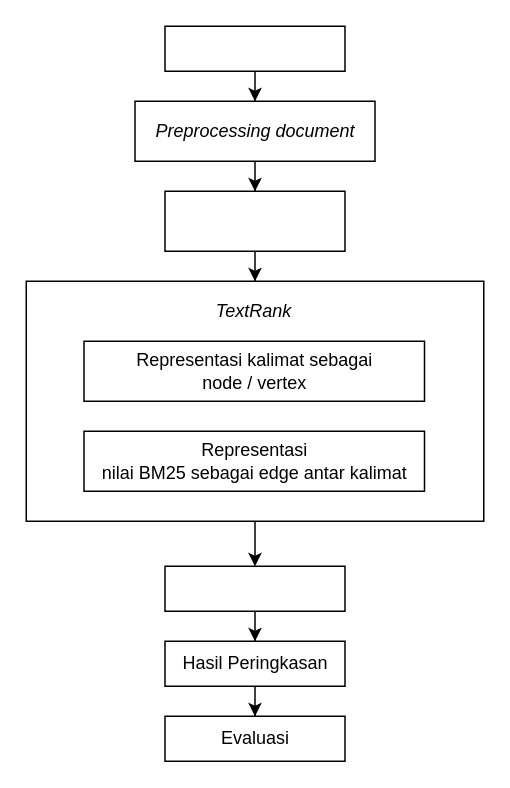
This 510x788 diagram has some shape labels left out. The box of each missing label's shape, as (x1, y1, x2, y2) in pixels:
PageRank: (164, 565, 345, 611)
Single document: (164, 25, 345, 71)
Term weighting: (164, 190, 345, 251)
